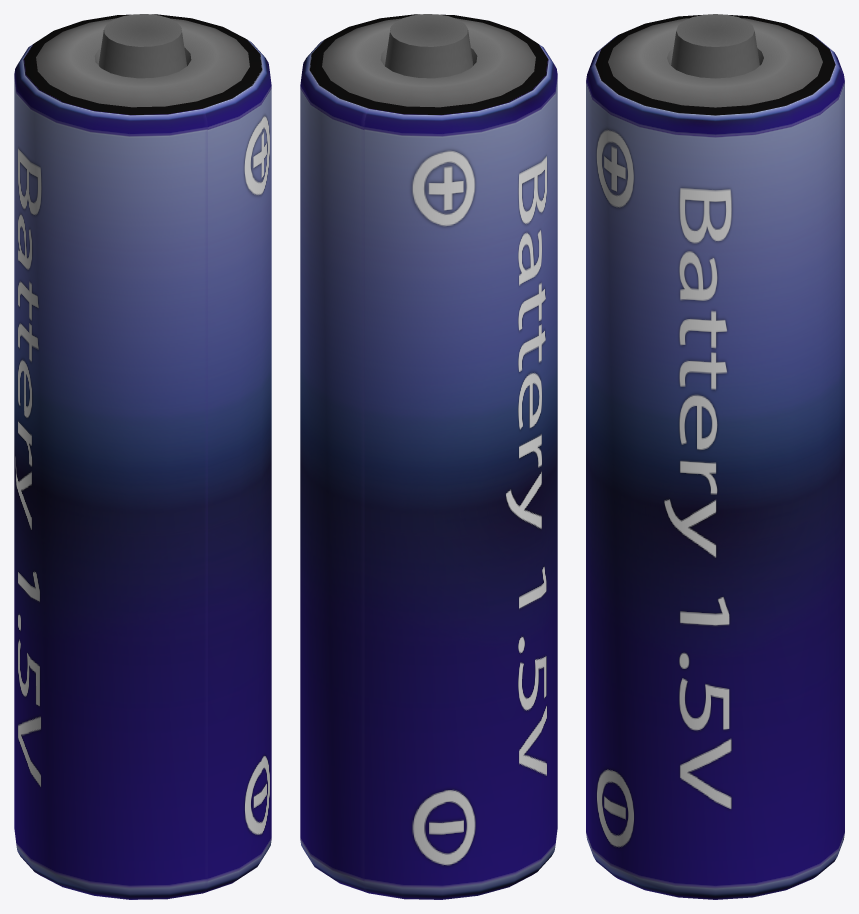
3 views of the same model, side by side, from view 1: azimuth 30°, elevation 25°; view 2: azimuth 150°, elevation 25°; view 3: azimuth 270°, elevation 25° (orthographic).
Parts seen in each view (by area): view 1: Cylinder001; view 2: Cylinder001; view 3: Cylinder001.
Boxes of the visible parts, x1,y1,x2,y2 form: Cylinder001: [14, 14, 271, 899]; Cylinder001: [300, 14, 557, 899]; Cylinder001: [586, 14, 844, 899].
Bounding box in the file's own units: 11.39 × 40.18 × 11.39.
